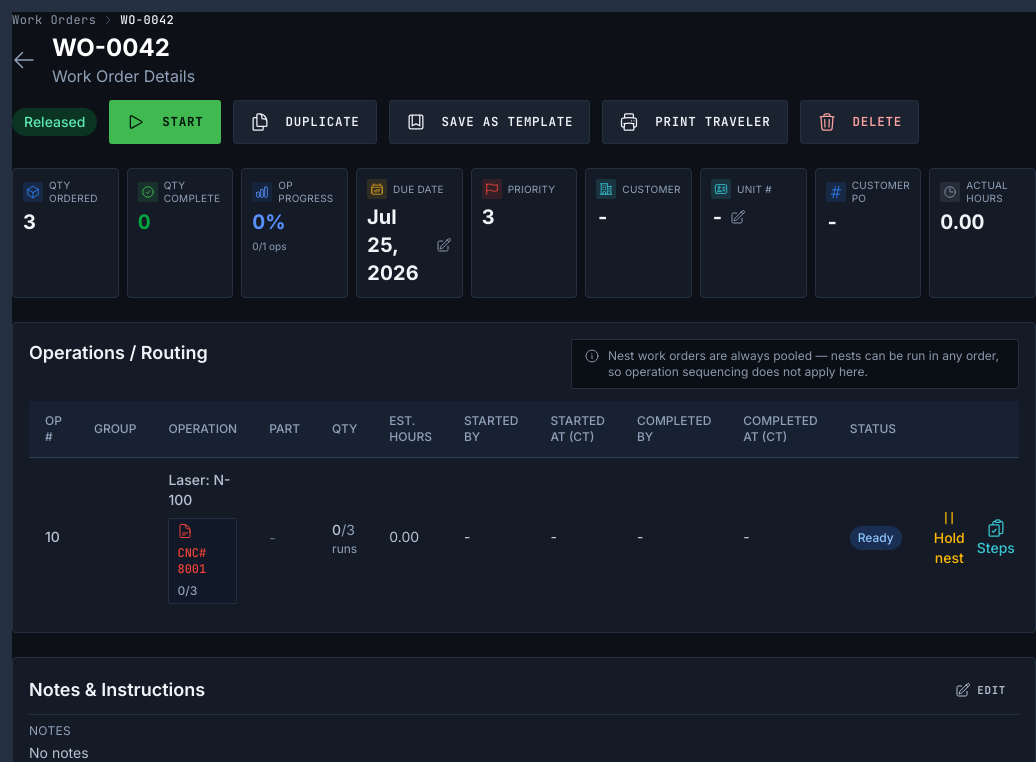
inline due-date edit › surfaces the server refusal verbatim and keeps the editor open (non-optimistic)
Click the button named "Edit due date".
click(444, 245)  # box [436,237,452,253]
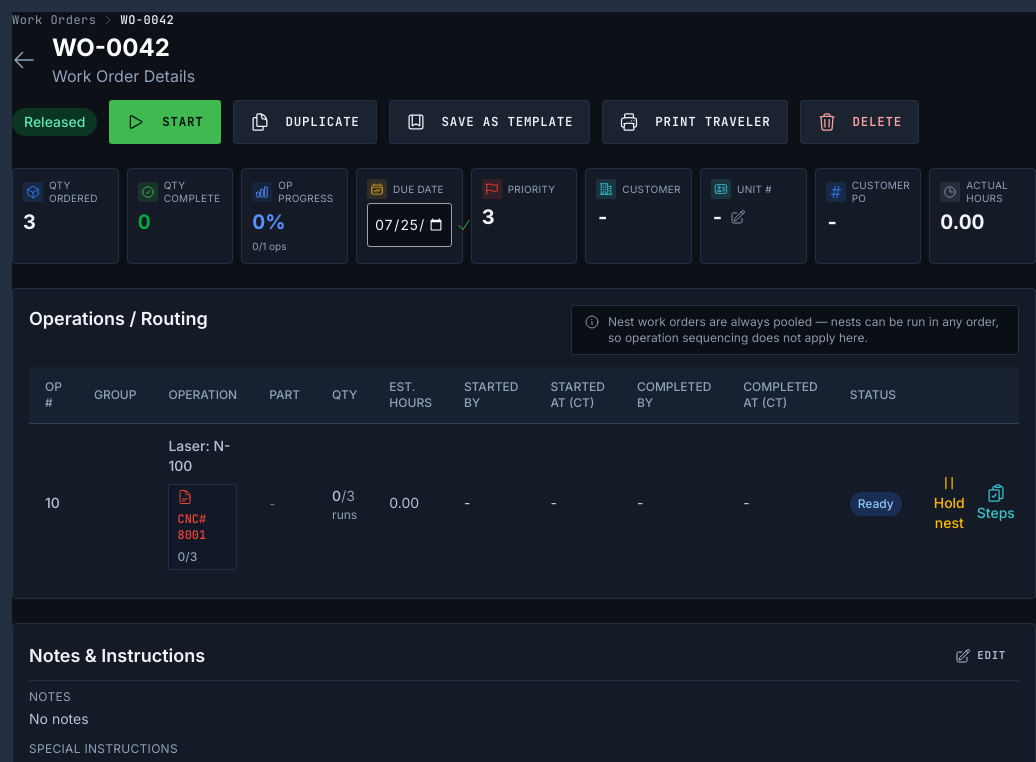
Type "2026-08-01" into the date field named "Due date".
click(409, 225); type("2026-08-01")  # box [367,203,452,247]
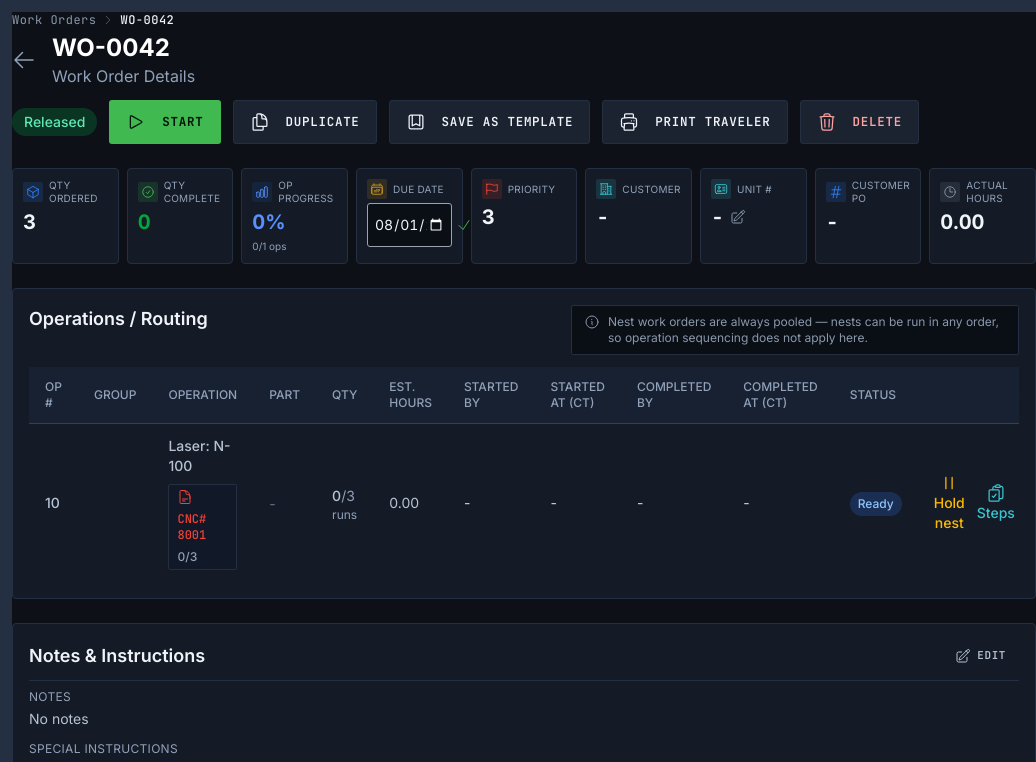
Click the button named "Save due date".
click(464, 225)  # box [456,217,472,233]
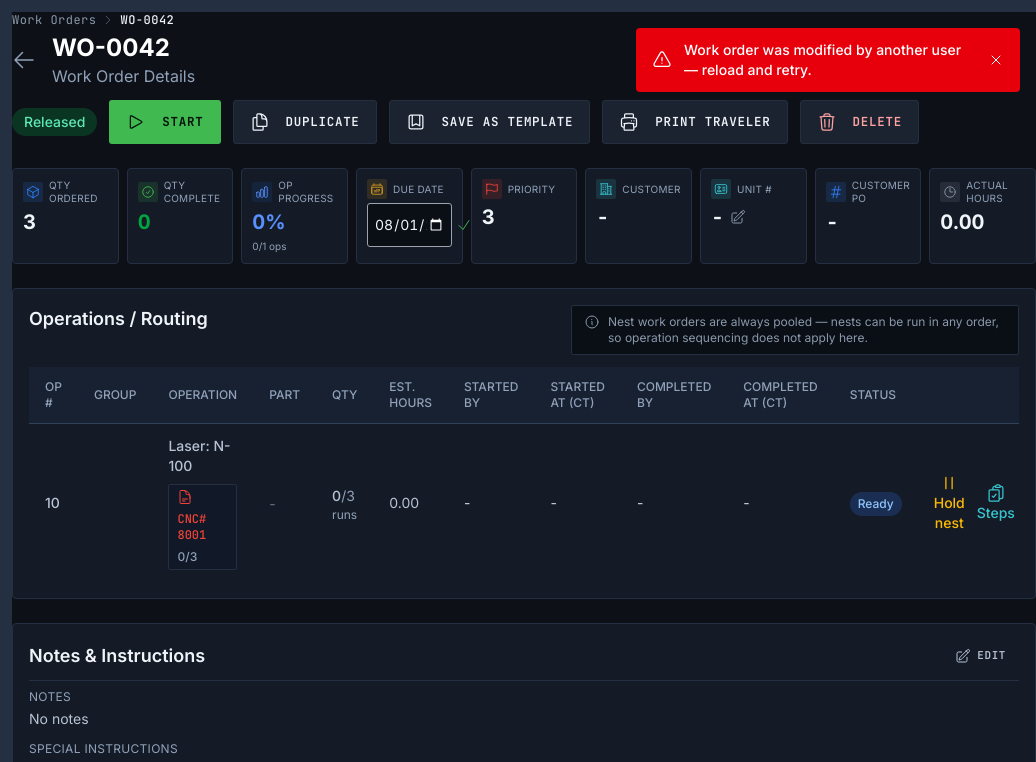
Result: the text "Work order was modified by another user — reload and retry." is shown at [684,40,976,80]
